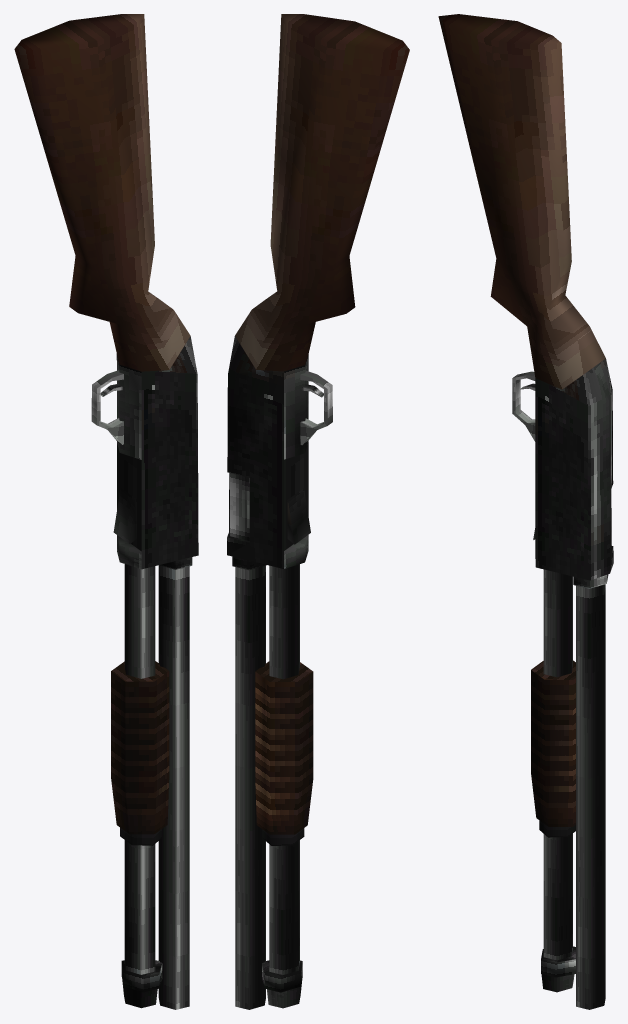
Rendered from Pump Shotgun.obj.
3 renders of one model, left to right at view 1: azimuth 30°, elevation 25°; view 2: azimuth 150°, elevation 25°; view 3: azimuth 330°, elevation 25°, orthographic. The views are drawn at different scales.
Visible parts, largest first — view 1: pumpshotgun.pumpshotgun.smd.mesh_1, pumpshotgun.pumpshotgun.smd.mesh_0; view 2: pumpshotgun.pumpshotgun.smd.mesh_1, pumpshotgun.pumpshotgun.smd.mesh_0; view 3: pumpshotgun.pumpshotgun.smd.mesh_1, pumpshotgun.pumpshotgun.smd.mesh_0.
Boxes of the visible parts, x1,y1,x2,y2 form: pumpshotgun.pumpshotgun.smd.mesh_1: [14, 14, 198, 569]; pumpshotgun.pumpshotgun.smd.mesh_0: [111, 557, 192, 1009]; pumpshotgun.pumpshotgun.smd.mesh_1: [227, 14, 409, 568]; pumpshotgun.pumpshotgun.smd.mesh_0: [232, 556, 313, 1009]; pumpshotgun.pumpshotgun.smd.mesh_1: [438, 14, 613, 580]; pumpshotgun.pumpshotgun.smd.mesh_0: [531, 569, 608, 1009].
Bounding box in the file's own units: 9.57 × 50.69 × 2.65.
2 materials, 2 textured.
